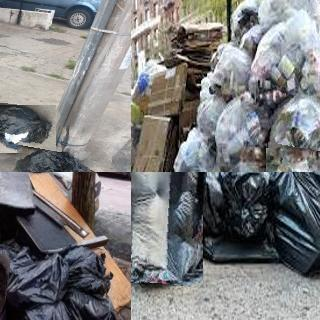Garbage: (131, 172, 207, 285), (246, 16, 320, 107), (266, 172, 320, 276), (209, 92, 275, 171), (217, 172, 277, 240), (268, 94, 320, 171), (0, 102, 57, 155), (9, 143, 109, 172), (205, 40, 256, 93), (61, 245, 112, 297), (168, 125, 224, 172), (13, 295, 117, 320), (258, 0, 320, 34), (217, 142, 272, 172)
